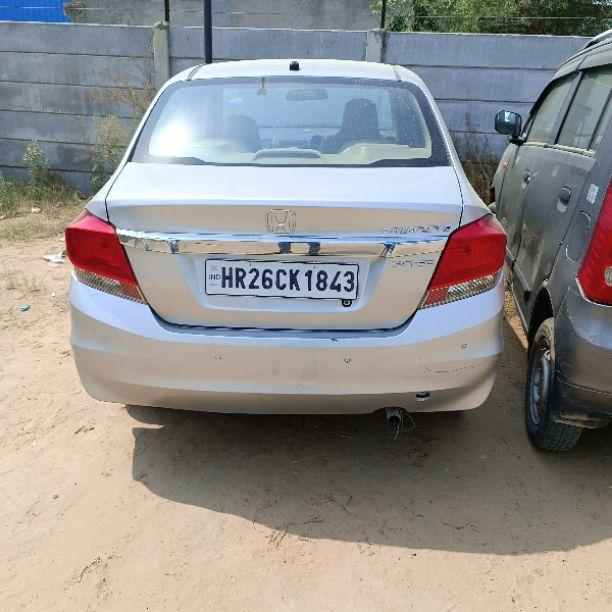license_plate: (202, 256, 361, 300)
